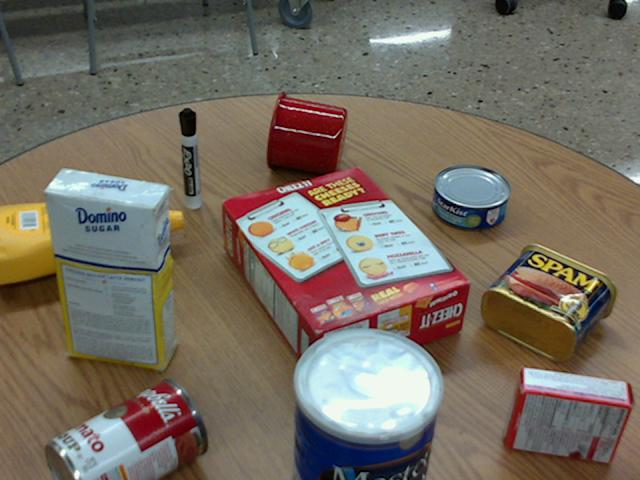cracker_box: (219, 167, 468, 376)
gelatin_box: (506, 366, 631, 461)
large_marker: (178, 108, 199, 208)
master_chef_can: (292, 328, 441, 479)
mug: (267, 91, 346, 175)
mustard_bottle: (0, 194, 182, 284)
potted_meat_can: (482, 242, 616, 361)
sugar_box: (44, 168, 173, 370)
tomato_soup_can: (46, 378, 207, 479)
tuna_fish_can: (432, 164, 510, 229)
